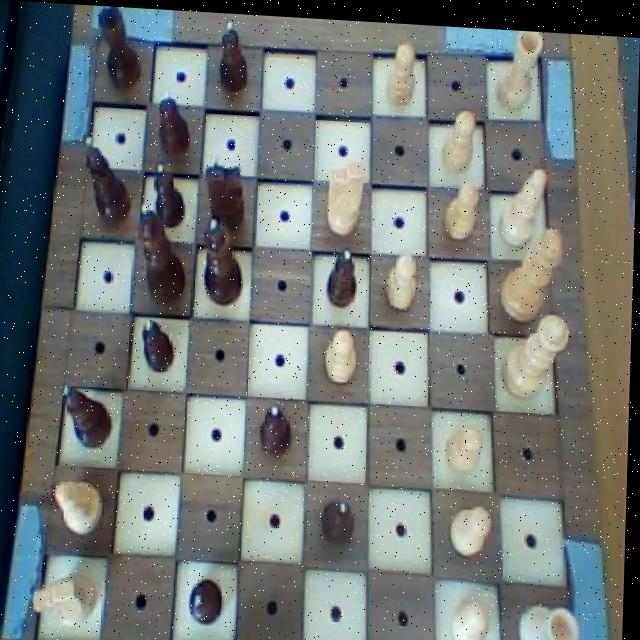bishop: (80, 132, 136, 230), (60, 379, 118, 454)
black-bishop: (136, 199, 194, 309)
black-king: (204, 145, 251, 235)
black-knight: (215, 11, 254, 99), (146, 158, 190, 231), (318, 488, 363, 549), (156, 86, 193, 160), (259, 393, 300, 458), (325, 240, 363, 309), (188, 571, 232, 630), (138, 316, 181, 375)
black-pawn: (199, 209, 251, 307)
black-queen: (89, 4, 148, 96)
black-rook: (496, 153, 551, 248), (51, 470, 108, 536)
white-bishop: (497, 216, 570, 322)
white-king: (30, 567, 105, 633), (322, 150, 369, 237)
white-knight: (436, 173, 486, 244), (451, 494, 498, 559), (383, 30, 421, 110), (382, 243, 426, 312), (437, 99, 478, 172), (443, 410, 489, 474), (320, 321, 364, 386), (450, 585, 497, 640)
white-pawn: (500, 302, 574, 399)
white-queen: (492, 23, 546, 110), (518, 591, 589, 640)
